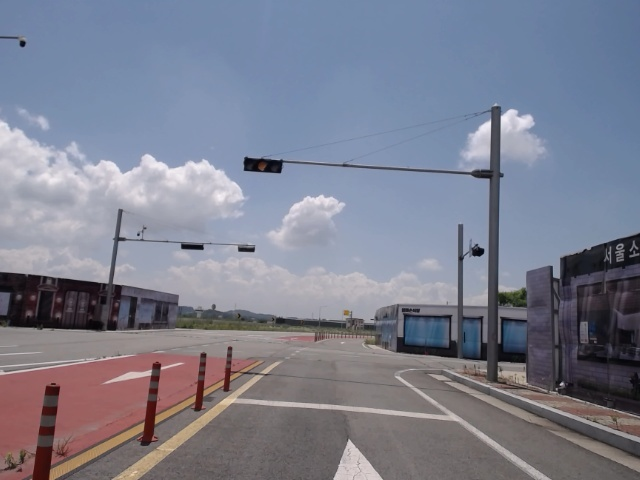orange_3: (243, 159, 281, 173)
